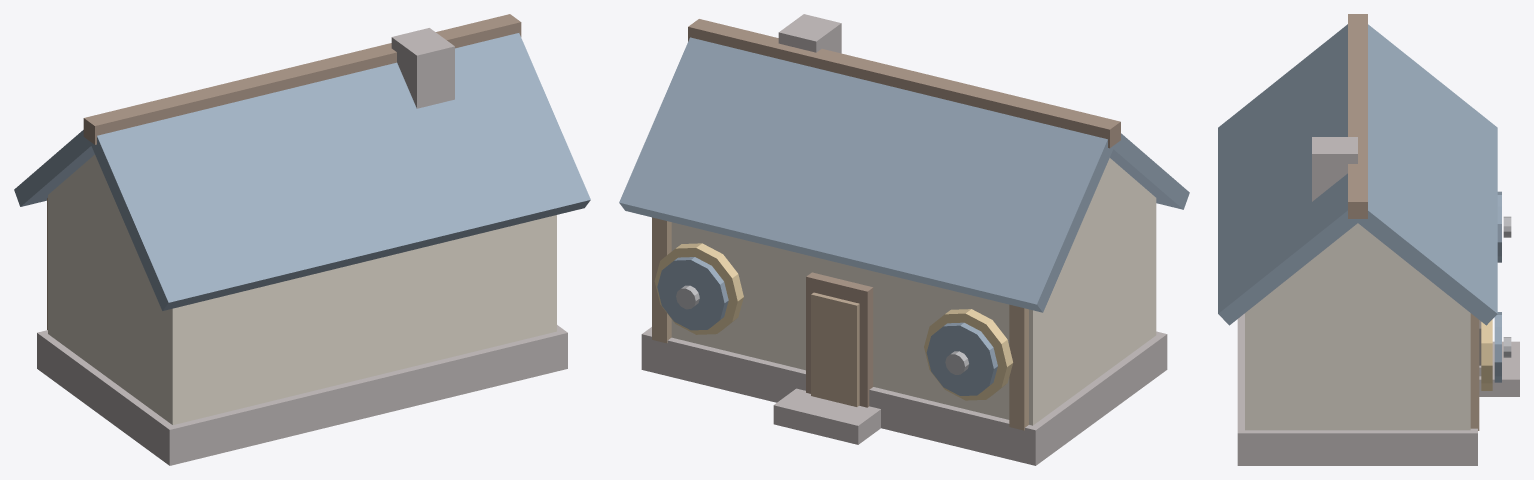
Rendered from bld_barracks.glb.
The picture shows the model from 3 angles, left to right: view 1: azimuth 30°, elevation 25°; view 2: azimuth 150°, elevation 25°; view 3: azimuth 270°, elevation 25°; orthographic projection. The views are drawn at different scales.
Visible parts, largest first — view 1: bld_barracks_556B84, bld_barracks_DDCFB6, bld_barracks_948989, bld_barracks_705443; view 2: bld_barracks_556B84, bld_barracks_DDCFB6, bld_barracks_948989, bld_barracks_705443, bld_barracks_917154, bld_barracks_CBA263, bld_barracks_85858A; view 3: bld_barracks_556B84, bld_barracks_DDCFB6, bld_barracks_948989, bld_barracks_705443, bld_barracks_917154, bld_barracks_CBA263, bld_barracks_85858A.
Boxes of the visible parts, left/top/right/bottom form: bld_barracks_556B84: left=14, top=33, right=590, bottom=310; bld_barracks_DDCFB6: left=48, top=155, right=556, bottom=424; bld_barracks_948989: left=37, top=28, right=567, bottom=465; bld_barracks_705443: left=83, top=14, right=521, bottom=144; bld_barracks_556B84: left=619, top=37, right=1189, bottom=395; bld_barracks_DDCFB6: left=671, top=158, right=1156, bottom=425; bld_barracks_948989: left=641, top=14, right=1167, bottom=465; bld_barracks_705443: left=688, top=19, right=1120, bottom=407; bld_barracks_917154: left=652, top=217, right=1028, bottom=430; bld_barracks_CBA263: left=654, top=243, right=1013, bottom=400; bld_barracks_85858A: left=676, top=285, right=968, bottom=374; bld_barracks_556B84: left=1218, top=24, right=1501, bottom=382; bld_barracks_DDCFB6: left=1245, top=223, right=1470, bottom=430; bld_barracks_948989: left=1237, top=137, right=1519, bottom=465; bld_barracks_705443: left=1348, top=14, right=1367, bottom=218; bld_barracks_917154: left=1470, top=313, right=1479, bottom=430; bld_barracks_CBA263: left=1481, top=319, right=1492, bottom=390; bld_barracks_85858A: left=1503, top=216, right=1511, bottom=357.
Size of the model in its own units: 1.07 by 0.74 by 0.722.
